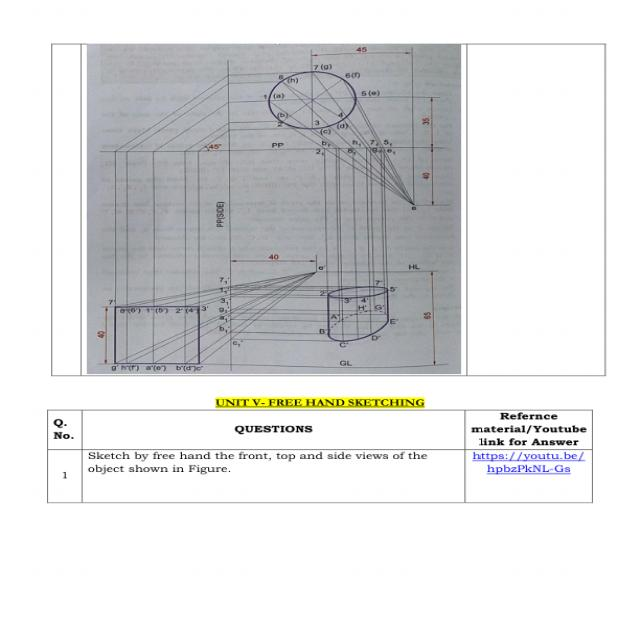Drawings: (86, 44, 462, 375)
